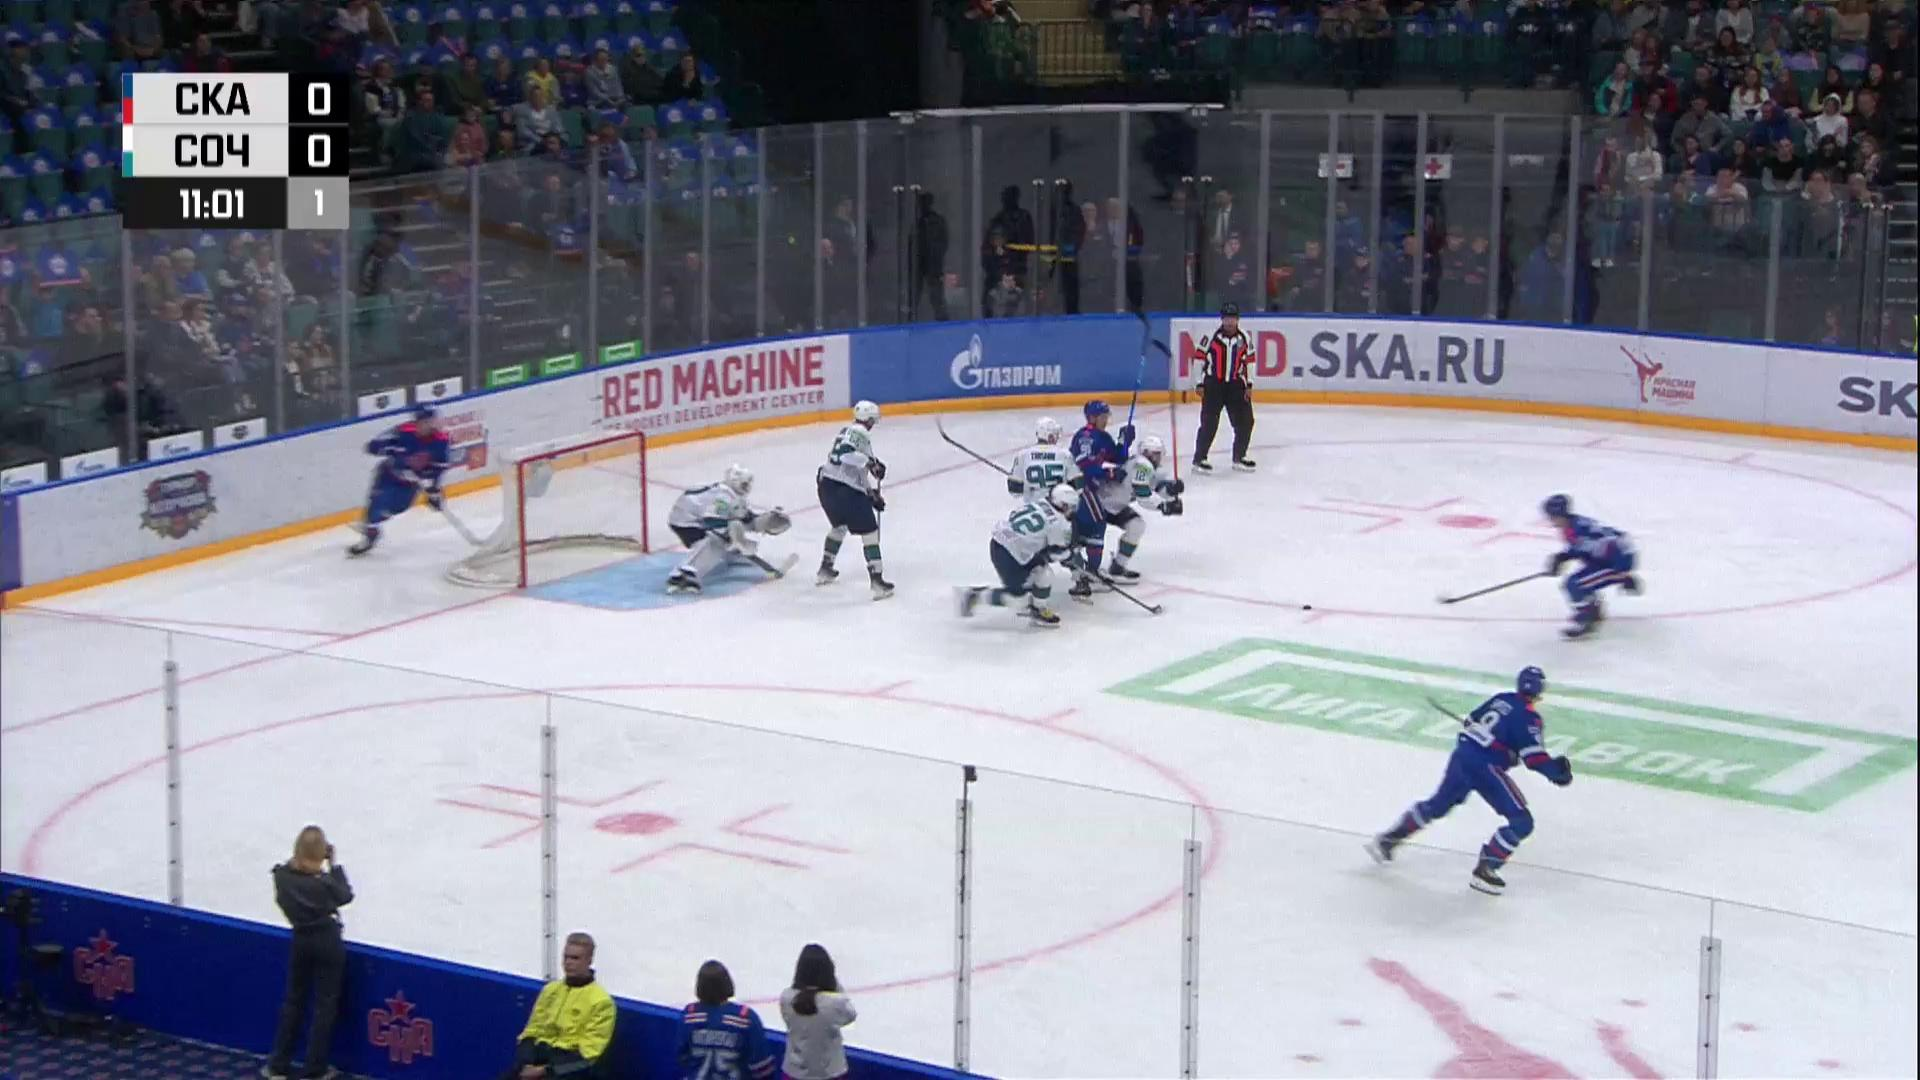ball: (1302, 605, 1312, 610)
